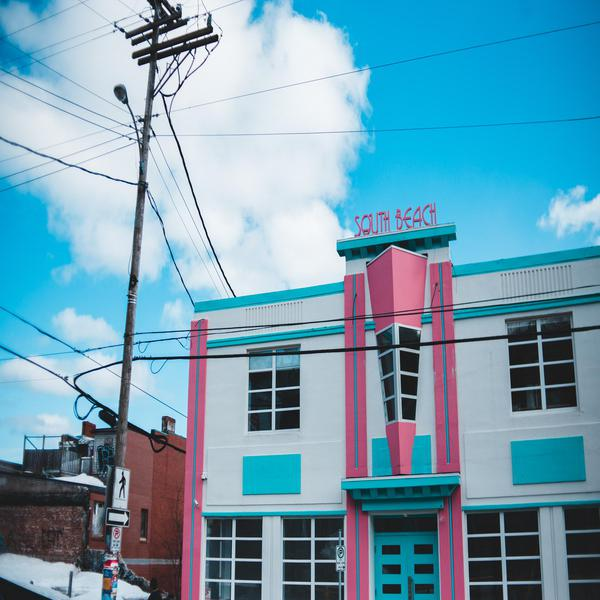utility_pole: (109, 1, 224, 157)
